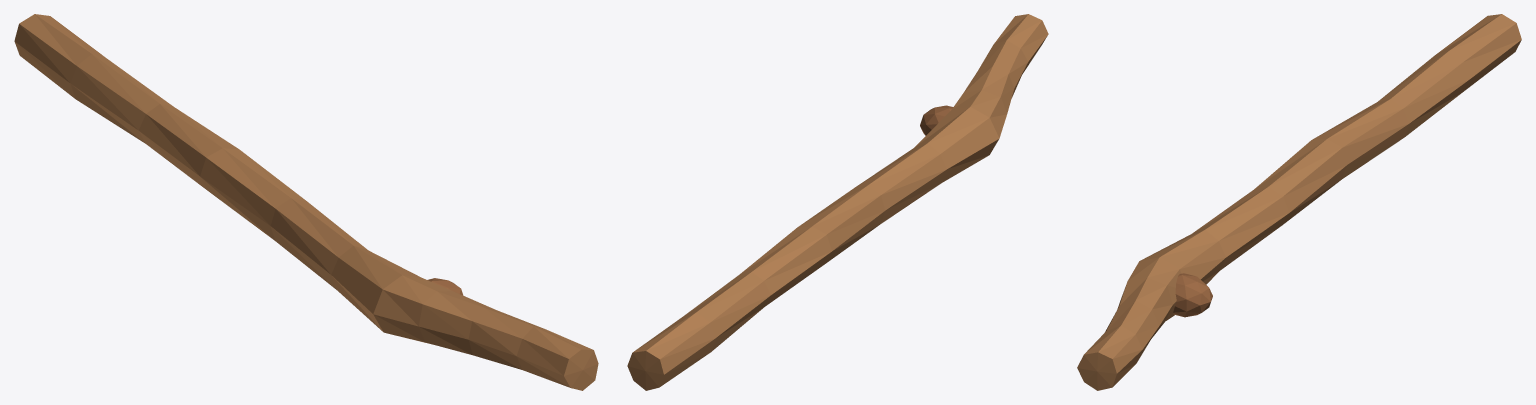
The model's file is stick_knot.glb.
3 renders of one model, left to right at view 1: azimuth 30°, elevation 25°; view 2: azimuth 150°, elevation 25°; view 3: azimuth 330°, elevation 25°, orthographic. The views are drawn at different scales.
Parts seen in each view (by area): view 1: Stick; view 2: Stick, Knot; view 3: Stick, Knot.
Part boxes in pixels (x1,y1,x2,y2): Stick: (14, 14, 598, 390); Stick: (627, 14, 1048, 390); Knot: (920, 105, 953, 135); Stick: (1077, 14, 1521, 390); Knot: (1173, 273, 1212, 317).
Size of the model in its own units: 0.3752 by 0.2102 by 3.02.
